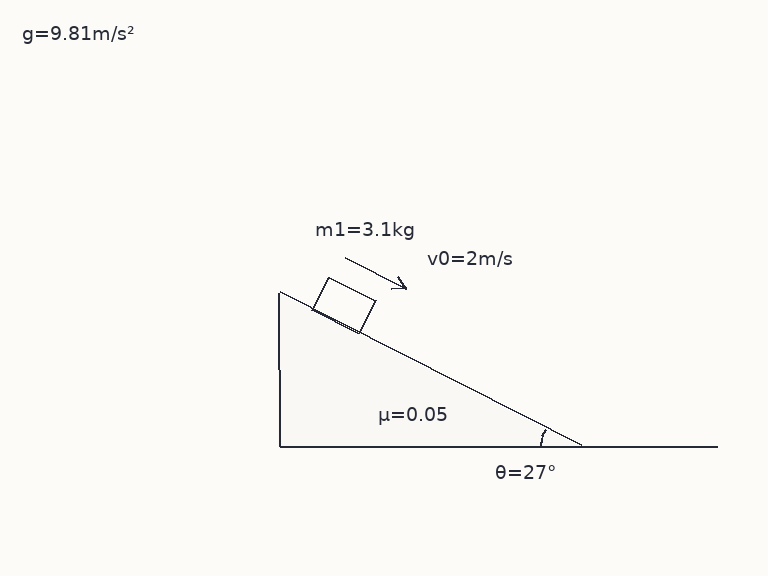block: (310, 275, 377, 335)
ramp: (277, 291, 583, 449)
